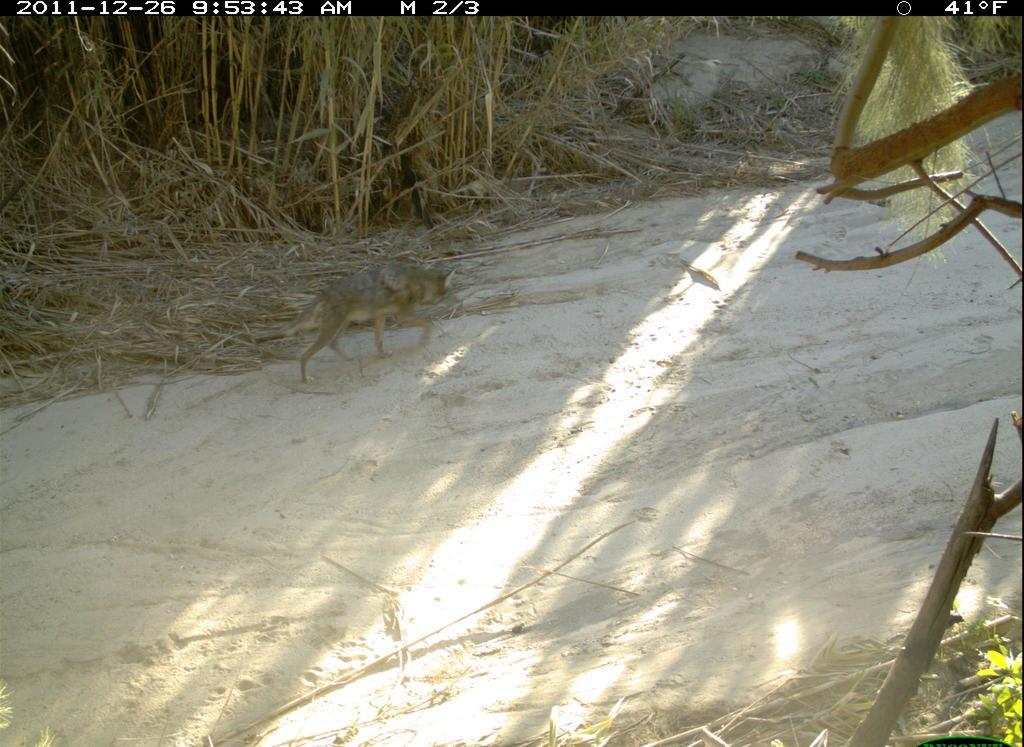coyote: (281, 255, 466, 390)
